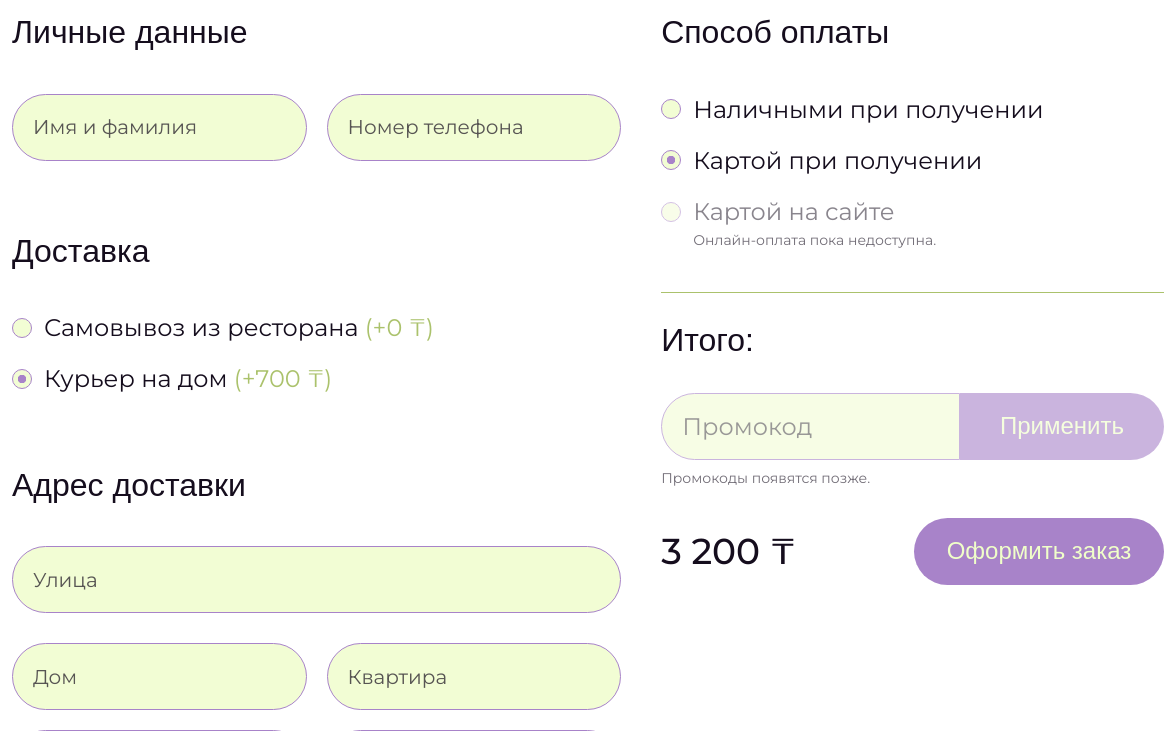
CheckoutForm: переключение доставки › самовывоз скрывает адрес, но оставляет контакты и комментарий
The image size is (1176, 731).
Check: the button "Оформить заказ" is enabled, box [914,518,1164,585]
Click the radio button labelled "Самовывоз из ресторана (+0 ₸)".
click(22, 328)  # box [12,318,32,338]
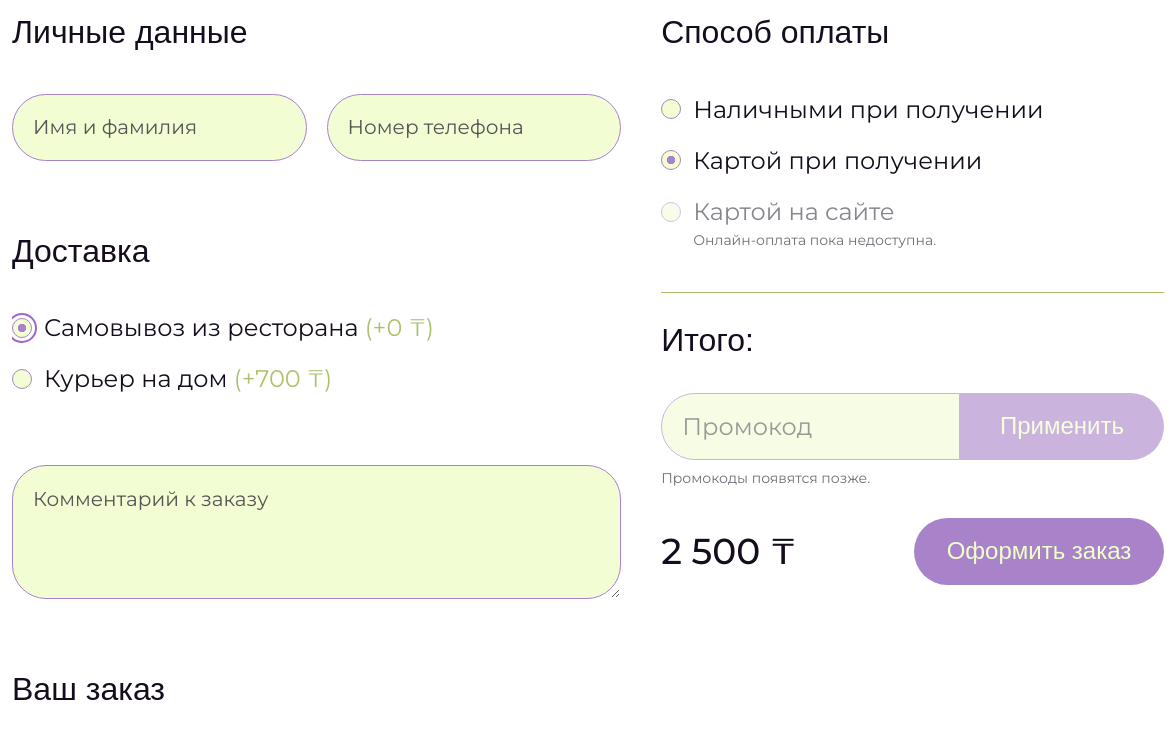
Check: the field labelled "Имя и фамилия" is shown, box [12,94,307,161]
Check: the field labelled "Улица" is gone
Check: the field labelled "Квартира" is gone
